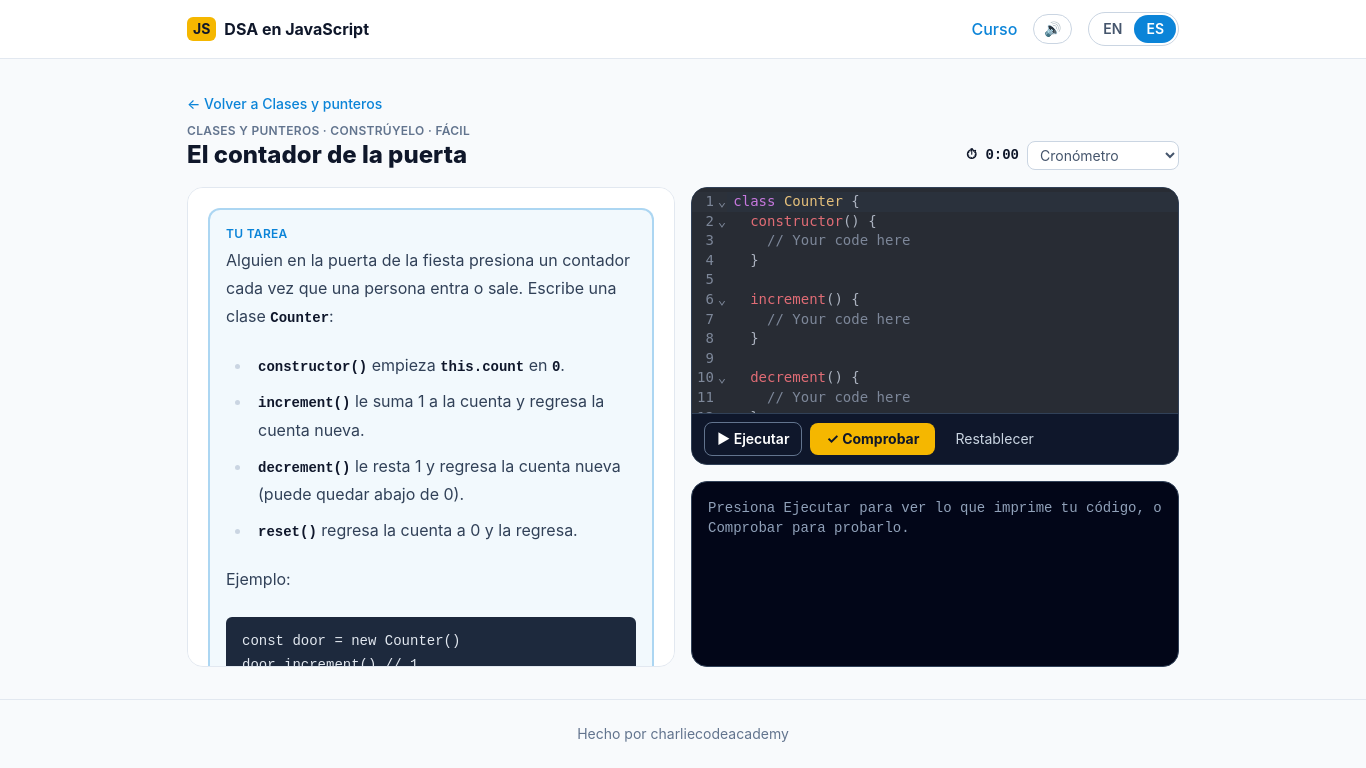
Test: exercise page › explains each test result in Spanish
The image size is (1366, 768).
What coordinates should you click on to do the following:
click the button "✓ Comprobar"
I would click on:
 (873, 439)
Its box is [810, 423, 936, 455].
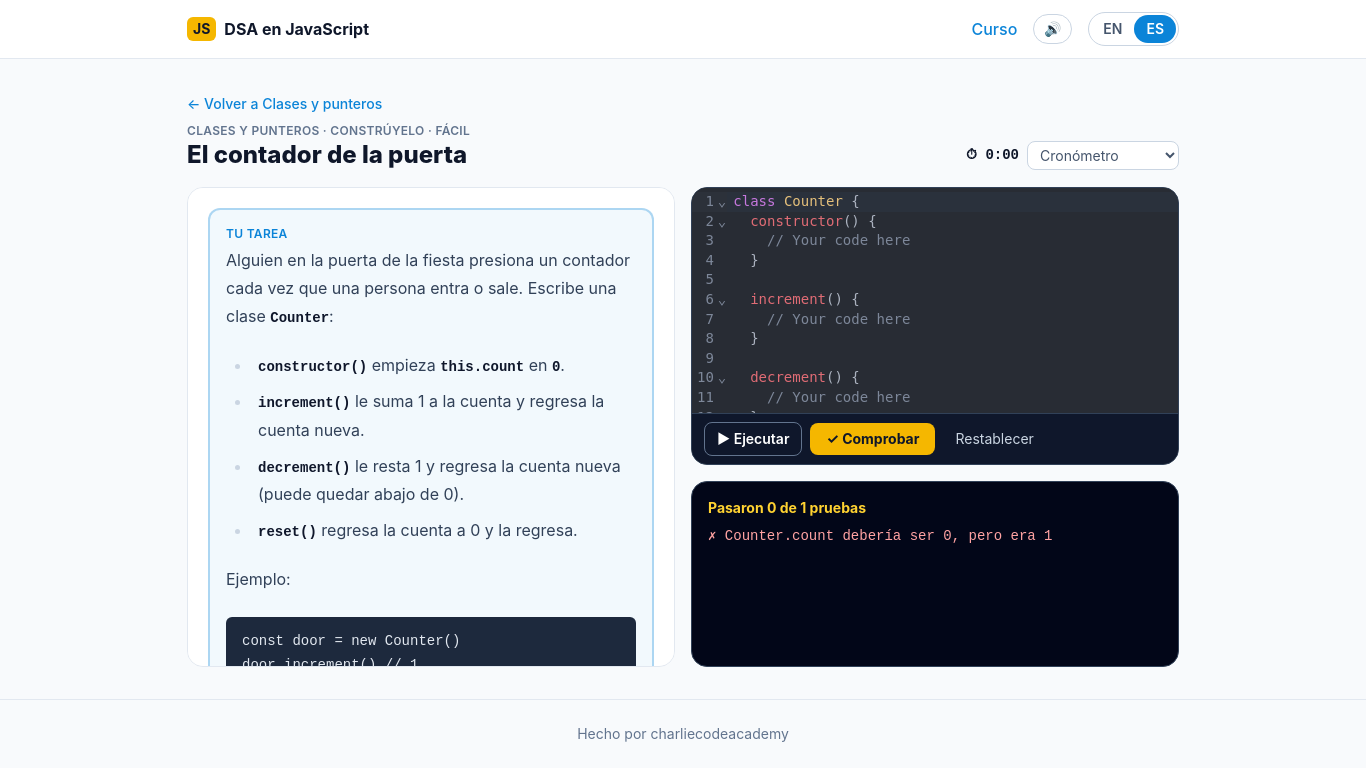
expect the list item "✗ Counter.count debería ser 0, pero era 1" is shown: met, box [708, 528, 1052, 544]
